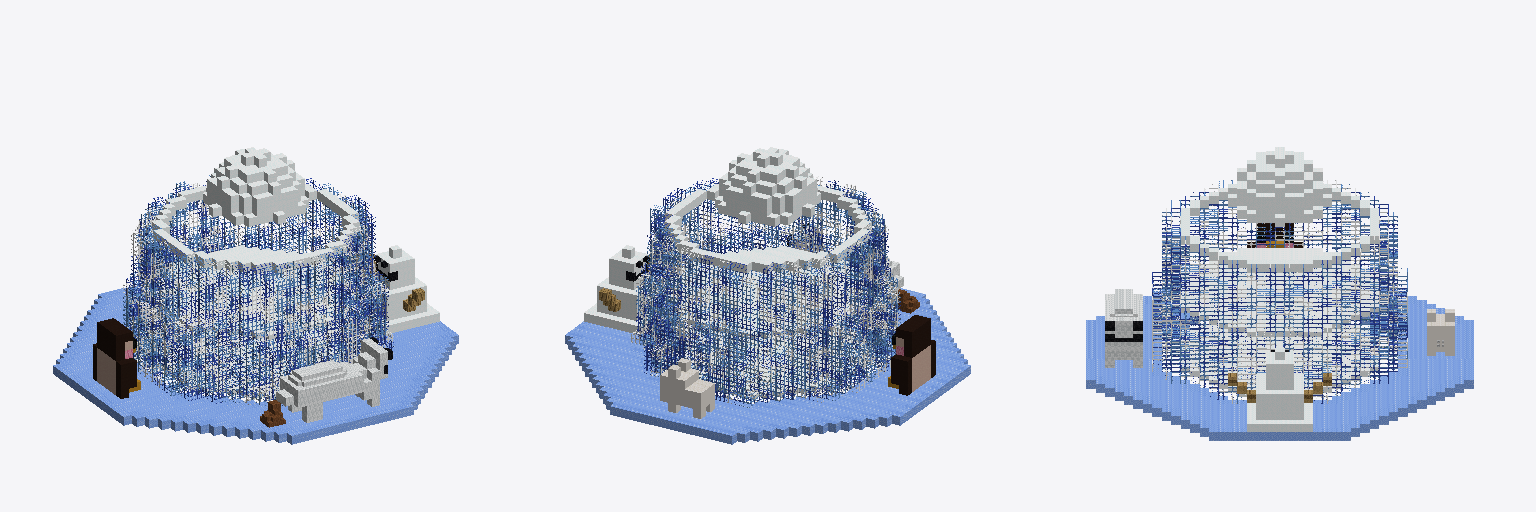
3 renders of one model, left to right at view 1: azimuth 30°, elevation 25°; view 2: azimuth 150°, elevation 25°; view 3: azimuth 270°, elevation 25°, orthographic.
Size of the model in its own units: 82 by 48 by 82.
28 materials, 26 textured.